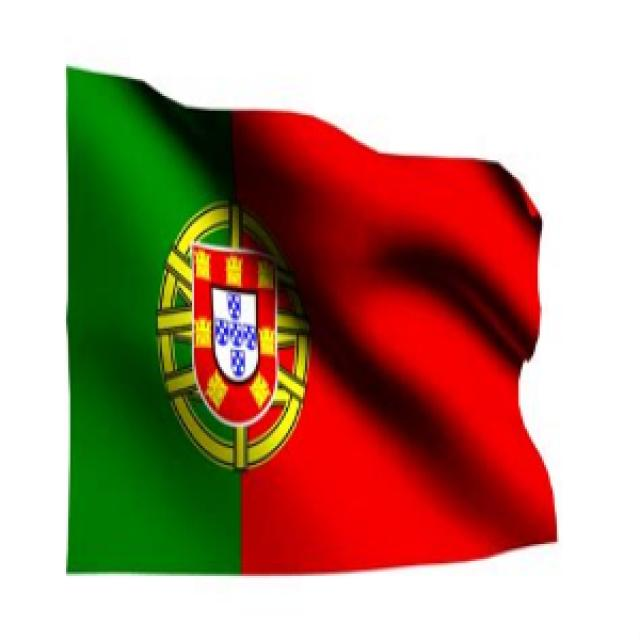portugal: (76, 69, 604, 620)
